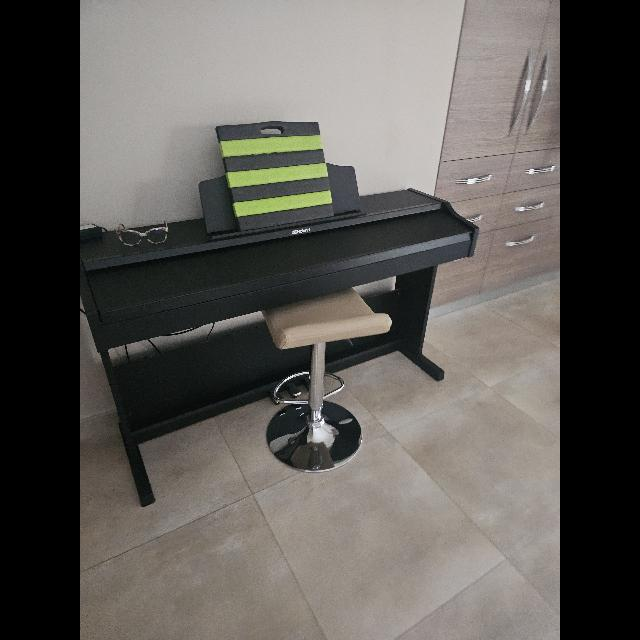glasses: (116, 222, 168, 246)
